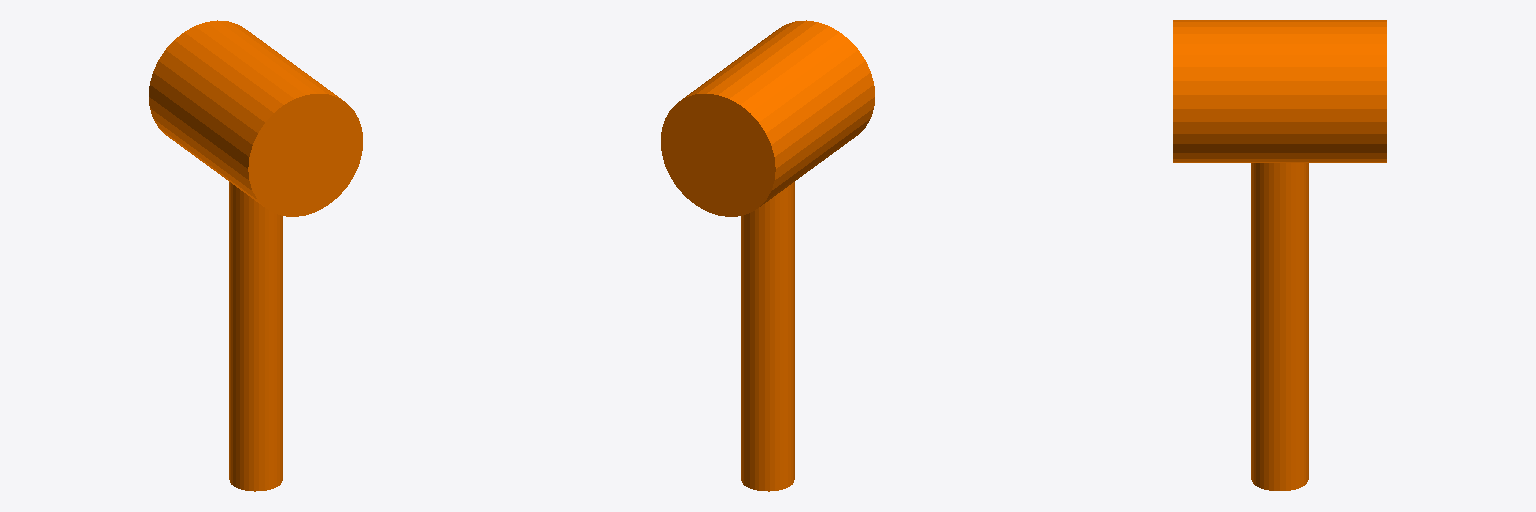
robot.urdf — orange_mallet:
<?xml version="1.0"?>
<robot name="orange_mallet">

  <link name="handle">
    <visual>
      <geometry>
        <cylinder length="0.3" radius="0.02"/>
      </geometry>
      <material name="orange">
        <color rgba="1.0 0.5 0.0 1.0"/>
      </material>
    </visual>
    <collision>
      <geometry>
        <cylinder length="0.3" radius="0.02"/>
      </geometry>
    </collision>
    <inertial>
      <mass value="0.5"/>
      <inertia ixx="0.0038" ixy="0" ixz="0" iyy="0.0038" iyz="0" izz="0.0001"/>
    </inertial>
  </link>

  <link name="head">
    <visual>
      <geometry>
        <cylinder length="0.15" radius="0.05"/>
      </geometry>
      <material name="orange">
        <color rgba="1.0 0.5 0.0 1.0"/>
      </material>
    </visual>
    <collision>
      <geometry>
        <cylinder length="0.15" radius="0.05"/>
      </geometry>
    </collision>
    <inertial>
      <mass value="1.0"/>
      <inertia ixx="0.0025" ixy="0" ixz="0" iyy="0.0025" iyz="0" izz="0.00125"/>
    </inertial>
  </link>

  <joint name="handle_to_head" type="fixed">
    <parent link="handle"/>
    <child link="head"/>
    <origin xyz="0 0 0.15" rpy="1.5708 0 0"/>
  </joint>

  <gazebo reference="handle">
    <visual>
      <material>
        <ambient>1.0 0.5 0.0 1.0</ambient>
        <diffuse>1.0 0.5 0.0 1.0</diffuse>
        <specular>0.1 0.1 0.1 1.0</specular>
      </material>
    </visual>
  </gazebo>

  <gazebo reference="head">
    <visual>
      <material>
        <ambient>1.0 0.5 0.0 1.0</ambient>
        <diffuse>1.0 0.5 0.0 1.0</diffuse>
        <specular>0.1 0.1 0.1 1.0</specular>
      </material>
    </visual>
  </gazebo>

</robot>

--- What the picture shows (computed from the rendered views, not written in the file) ---
3 views of the same robot in one strip: view 1: azimuth 30°, elevation 25°; view 2: azimuth 150°, elevation 25°; view 3: azimuth 270°, elevation 25° (orthographic).
Robot: orange_mallet — 2 links, 1 joints (1 fixed); root link handle; default pose: every joint at zero.
Links seen in each view (by area): view 1: head, handle; view 2: head, handle; view 3: head, handle.
Link boxes in pixels (<box>): head: <box>149,20,362,216</box>; handle: <box>229,182,282,491</box>; head: <box>661,20,874,216</box>; handle: <box>741,182,794,491</box>; head: <box>1173,20,1386,162</box>; handle: <box>1251,163,1308,490</box>.
Size in the robot's own frame: 0.1 by 0.15 by 0.35 metres.
Geometry: primitives only (box / cylinder / sphere), no mesh files.